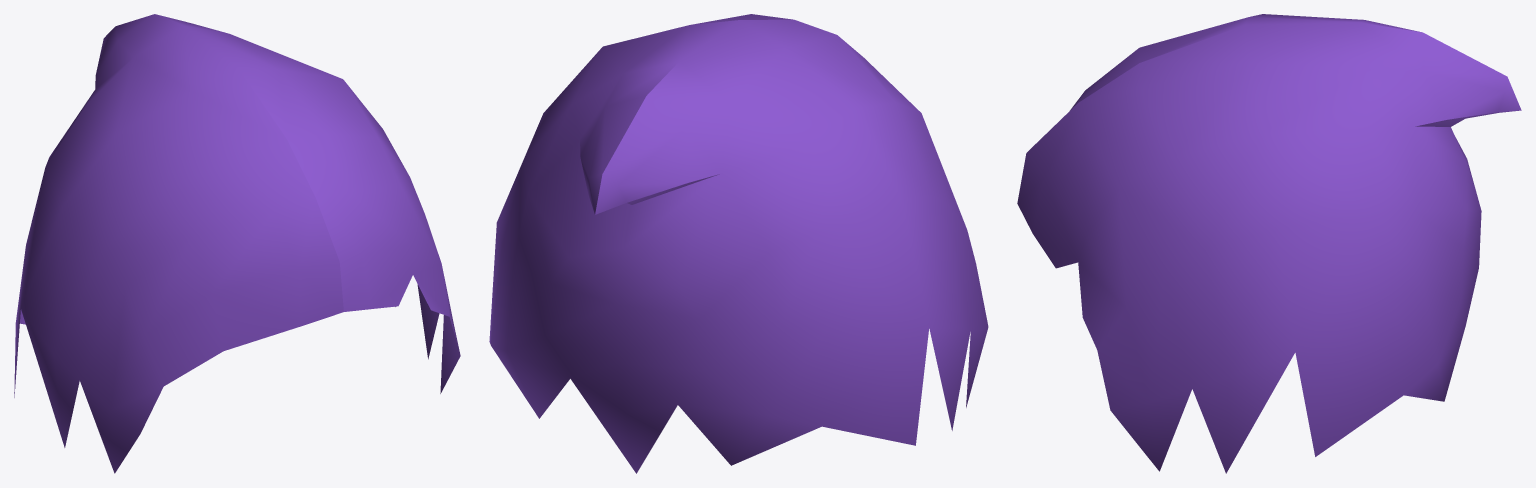
The model's file is mage_hood.glb.
3 renders of one model, left to right at view 1: azimuth 30°, elevation 25°; view 2: azimuth 150°, elevation 25°; view 3: azimuth 270°, elevation 25°, orthographic. The views are drawn at different scales.
Parts seen in each view (by area): view 1: Mage_Hood; view 2: Mage_Hood; view 3: Mage_Hood.
Part boxes in pixels (box(x1,y1,x2,y2)): Mage_Hood: box(14, 14, 460, 473); Mage_Hood: box(489, 14, 988, 473); Mage_Hood: box(1017, 14, 1521, 473).
Size of the model in its own units: 1.1 by 0.9243 by 1.16.
